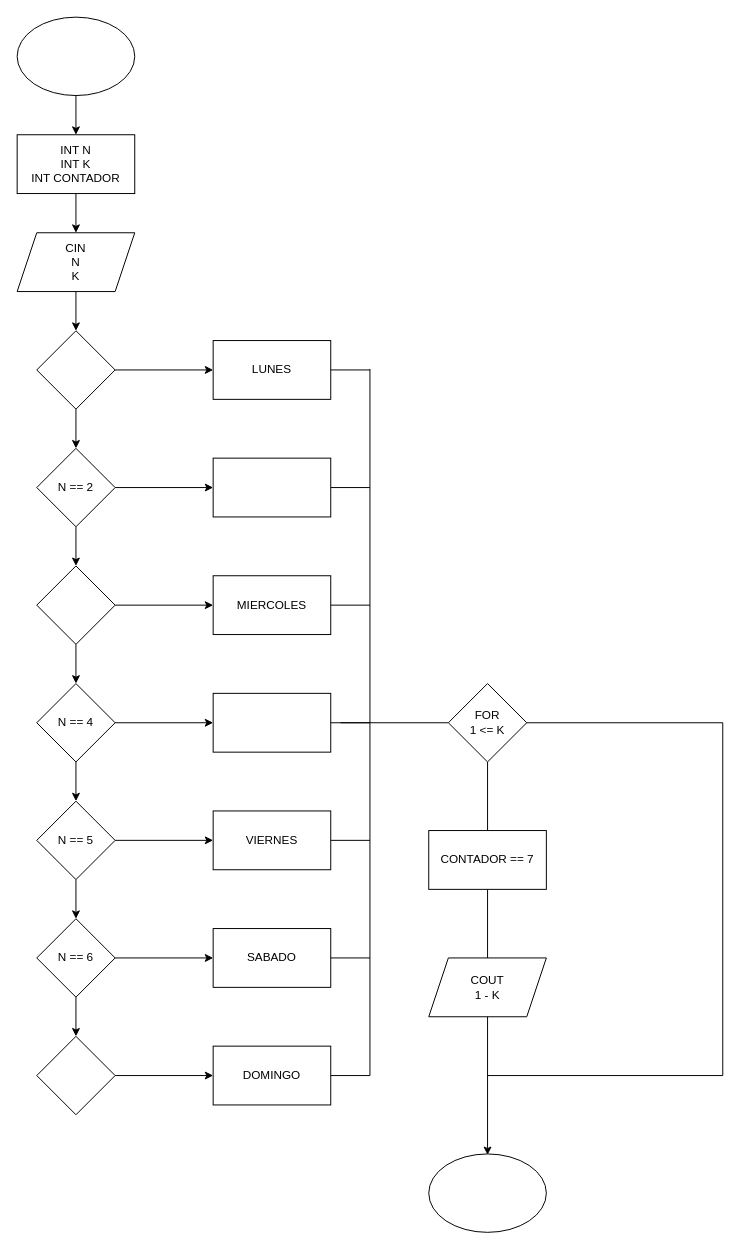
Image size: 741x1250. Some labels were removed from this diagram. The box of each missing label's shape, as (x1, y1, x2, y2) in pixels:
END: (428, 1153, 546, 1232)
JUEVES: (212, 692, 331, 752)
MARTES: (212, 457, 331, 517)
N == 1: (36, 330, 115, 409)
N == 7: (36, 1035, 115, 1115)
N ==3: (36, 565, 115, 644)
START: (16, 16, 135, 96)
